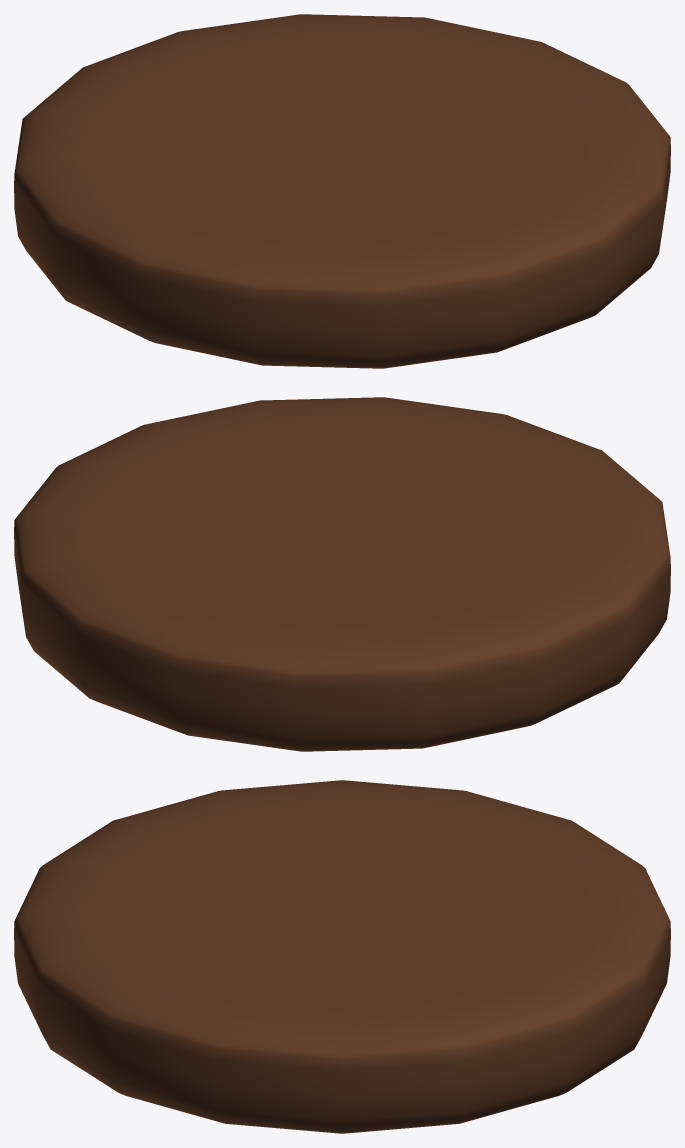
Rendered from Carne.fbx.
The picture shows the model from 3 angles, top to bottom: view 1: azimuth 30°, elevation 25°; view 2: azimuth 150°, elevation 25°; view 3: azimuth 270°, elevation 25°; orthographic projection.
Parts seen in each view (by area): view 1: carne; view 2: carne; view 3: carne.
Part boxes in pixels (x1,y1,x2,y2): carne: (14,14,670,368); carne: (14,397,670,751); carne: (14,780,670,1133).
Bounding box in the file's own units: 0.1943 × 0.0325 × 0.1943.
